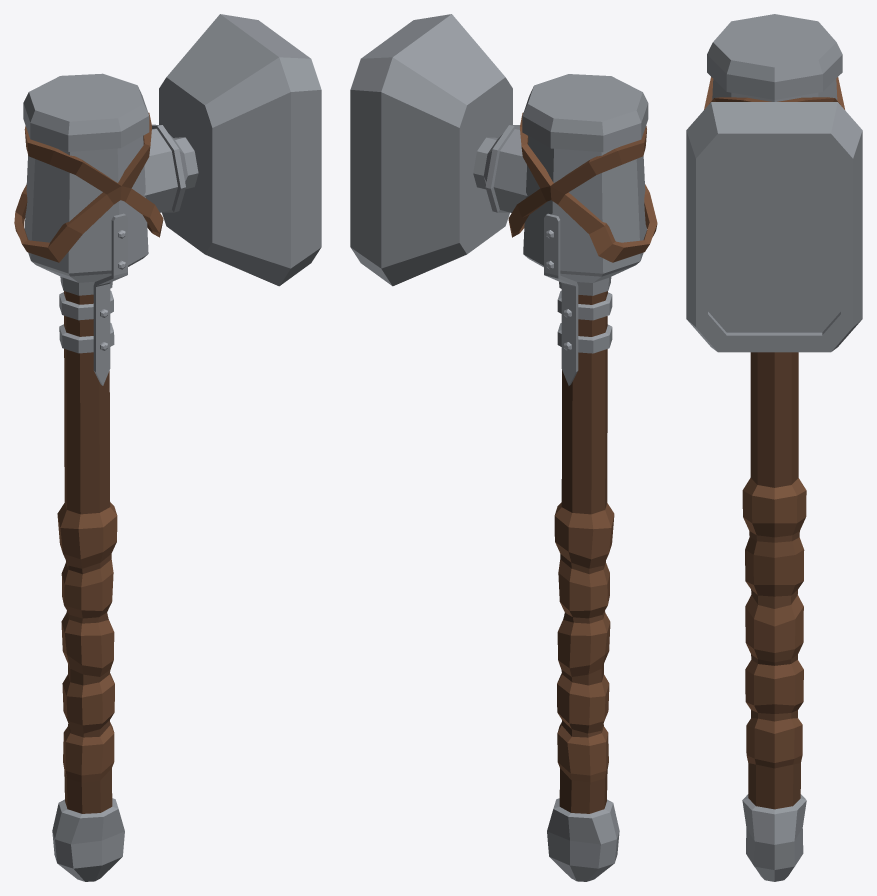
The model's file is Hammer_Small.glb.
3 renders of one model, left to right at view 1: azimuth 30°, elevation 25°; view 2: azimuth 150°, elevation 25°; view 3: azimuth 270°, elevation 25°, orthographic. The views are drawn at different scales.
Parts seen in each view (by area): view 1: Hammer_small; view 2: Hammer_small; view 3: Hammer_small.
Part boxes in pixels (x1,y1,x2,y2): Hammer_small: (14, 14, 321, 881); Hammer_small: (350, 14, 657, 881); Hammer_small: (686, 14, 862, 881).
Bounding box in the file's own units: 1.49 × 4.33 × 0.8057.
